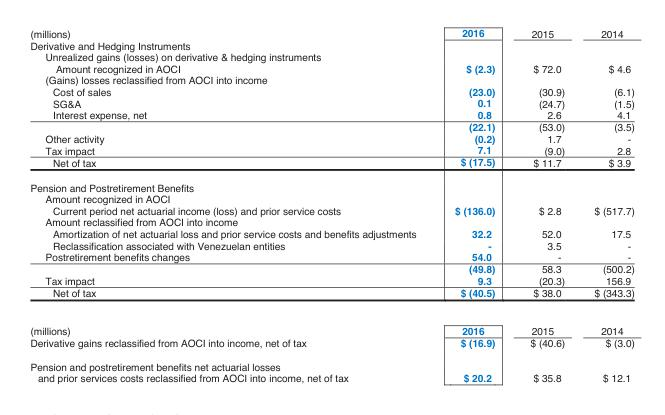table: (29, 28, 633, 383)
table column: (29, 28, 434, 383), (434, 28, 511, 383), (511, 28, 578, 383), (578, 28, 633, 383)
table column header: (29, 28, 633, 39)
table projected row header: (29, 175, 633, 193), (29, 355, 633, 372), (29, 39, 633, 51), (29, 51, 633, 63), (29, 74, 633, 86), (29, 193, 633, 205), (29, 216, 633, 228)
table row: (29, 287, 633, 312), (29, 312, 633, 337), (29, 156, 633, 175), (29, 175, 633, 193), (29, 337, 633, 355), (29, 355, 633, 372), (29, 39, 633, 51), (29, 51, 633, 63), (29, 74, 633, 86), (29, 97, 633, 109), (29, 109, 633, 121), (29, 121, 633, 133), (29, 144, 633, 156), (29, 193, 633, 205), (29, 216, 633, 228), (29, 228, 633, 240), (29, 251, 633, 263), (29, 263, 633, 275), (29, 275, 633, 287), (29, 28, 633, 39), (29, 63, 633, 74), (29, 86, 633, 97), (29, 133, 633, 144), (29, 205, 633, 216), (29, 240, 633, 251), (29, 372, 633, 383)
